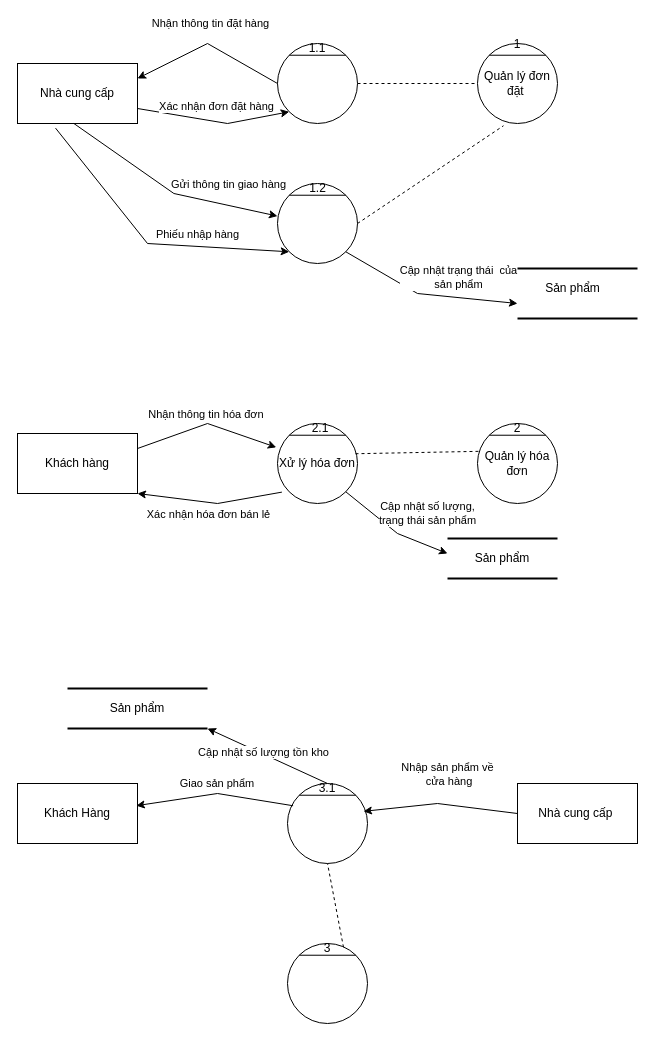
This 656x1042 diagram has some shape labels left out. Here are the shapes that lost their labels. From the top down, the box of each, then its label:
(276, 42, 358, 124): Xử lý đơn đặt hàng
(276, 182, 358, 264): Xử lý giao hàng
(286, 782, 368, 864): Xử lý tồn kho
(286, 942, 368, 1024): Quản lý sản phẩm
